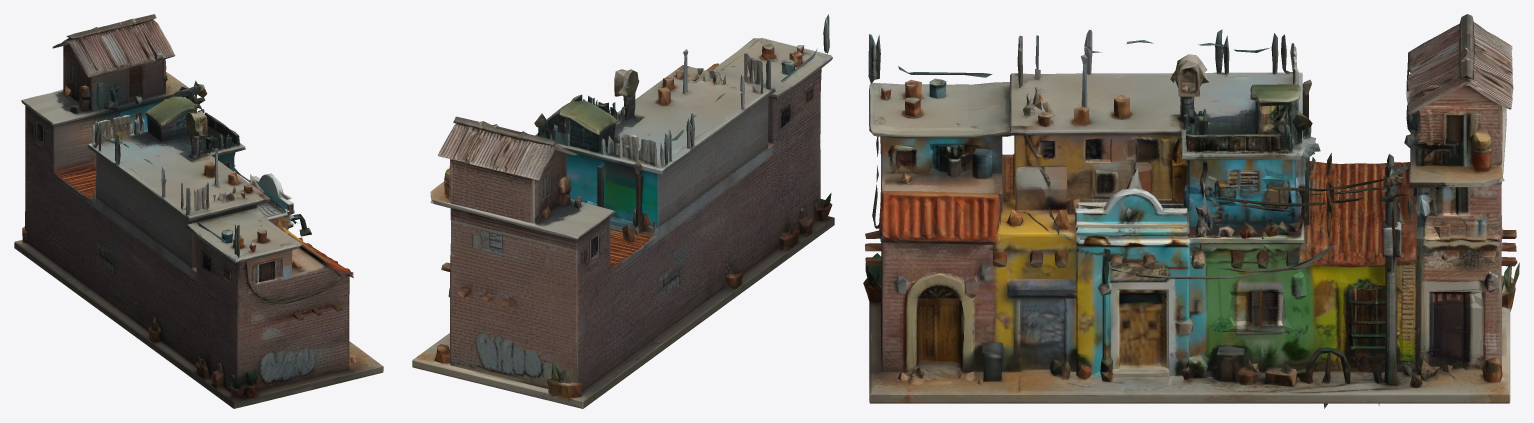
File: casa 1.glb
The picture shows the model from 3 angles, left to right: view 1: azimuth 30°, elevation 25°; view 2: azimuth 150°, elevation 25°; view 3: azimuth 270°, elevation 25°; orthographic projection. The views are drawn at different scales.
Parts seen in each view (by area): view 1: tripo_node_c82aae60-0b6e-432b-bee8-441b63a556fb; view 2: tripo_node_c82aae60-0b6e-432b-bee8-441b63a556fb; view 3: tripo_node_c82aae60-0b6e-432b-bee8-441b63a556fb.
Boxes of the visible parts, x1=… form: tripo_node_c82aae60-0b6e-432b-bee8-441b63a556fb: x1=14, y1=14, x2=383, y2=408; tripo_node_c82aae60-0b6e-432b-bee8-441b63a556fb: x1=412, y1=14, x2=834, y2=408; tripo_node_c82aae60-0b6e-432b-bee8-441b63a556fb: x1=863, y1=14, x2=1519, y2=408.
Size of the model in its own units: 0.4086 by 0.5554 by 1.
1 material, 1 textured.
